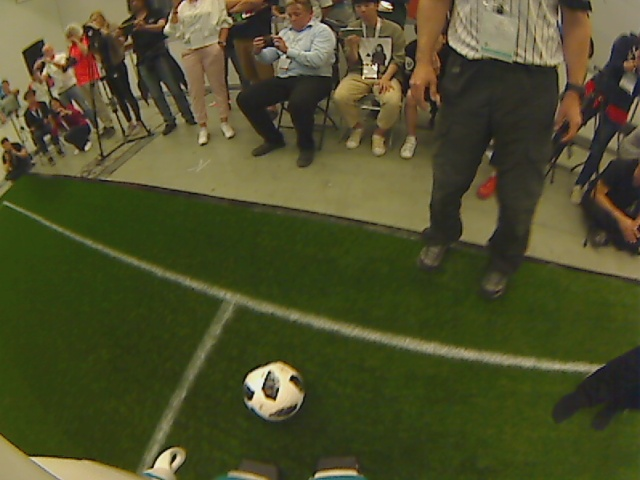ball: (240, 358, 304, 425)
